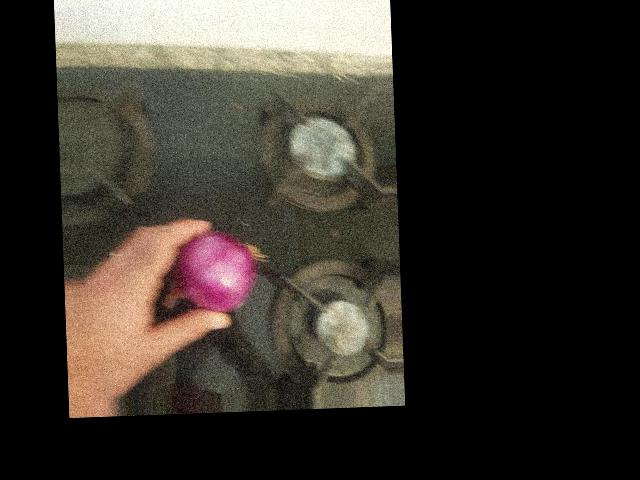onion: (168, 230, 257, 317)
